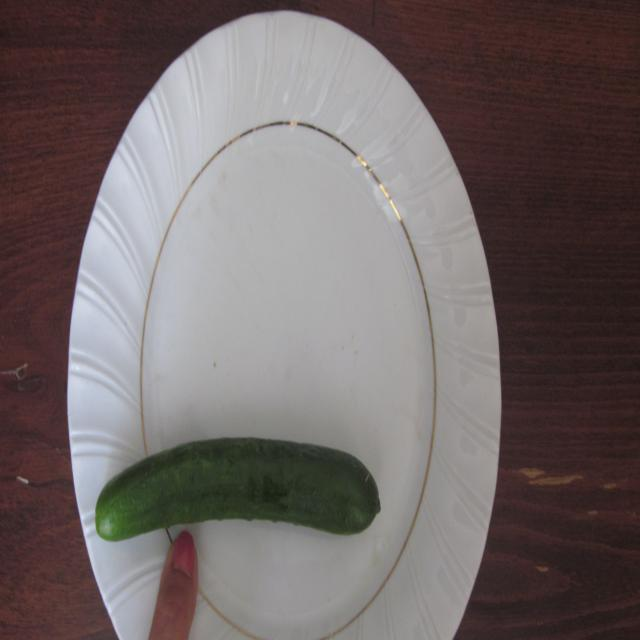cucumber: (48, 406, 404, 564)
